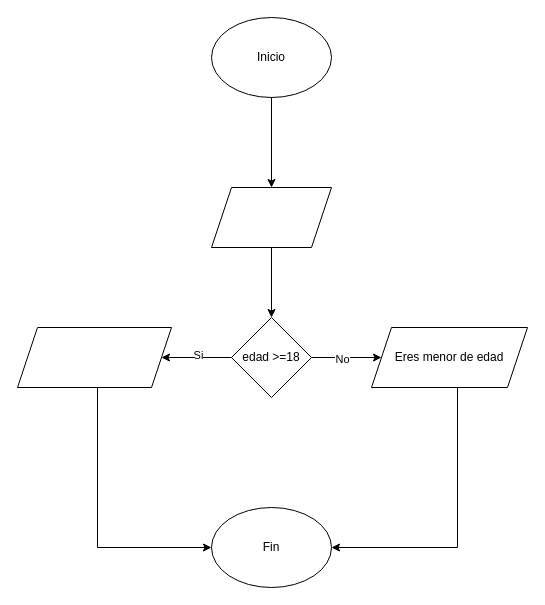
The diagram is 545 pixels wide and 605 high, and some of its shapes have lost their labels. Each missing label, with the centre of its shape:
Eres mayor de edad: pixel 94 357
Ingrese su edad: pixel 271 217
